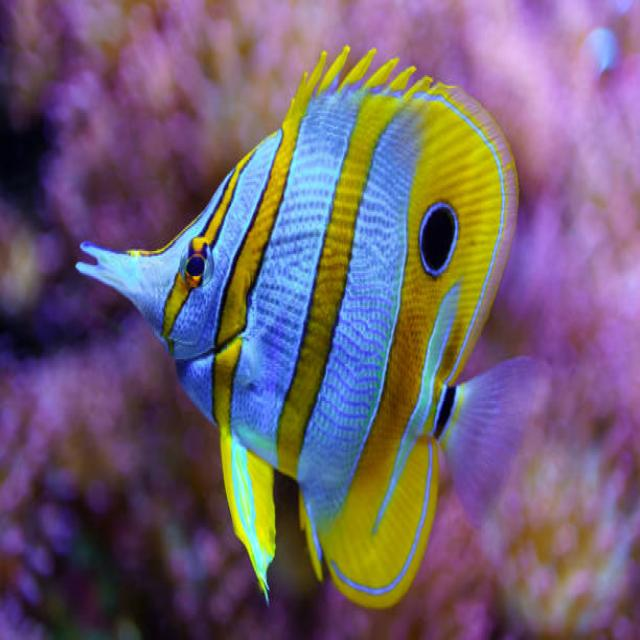ButterflyFish: (79, 43, 523, 614)
